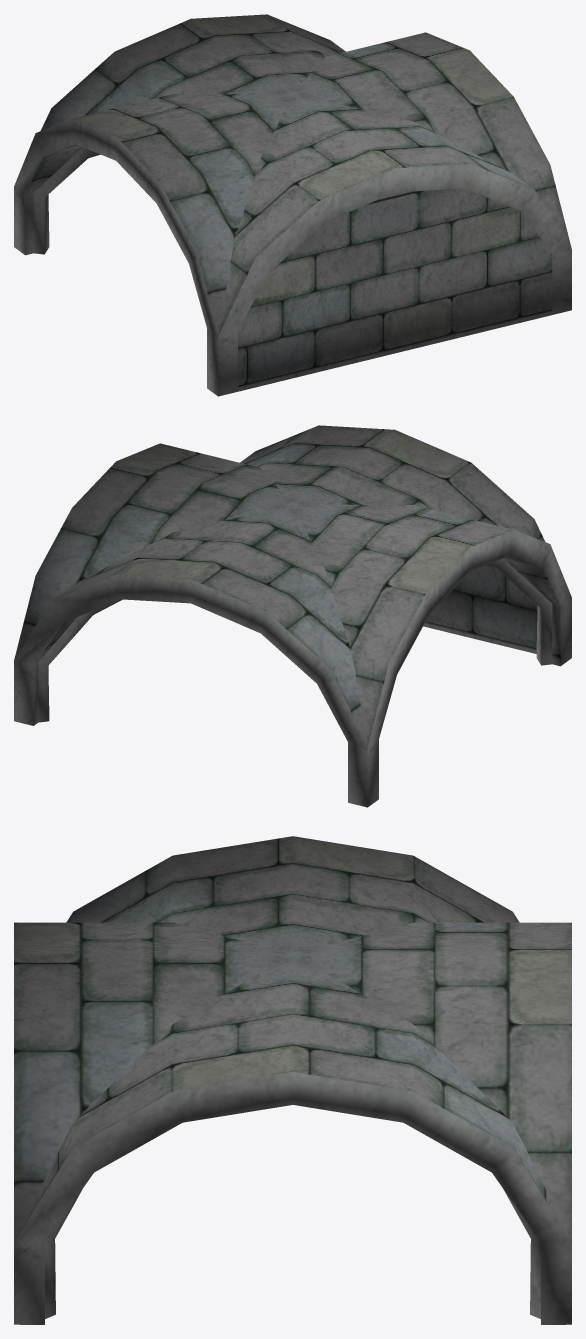
The model's file is vault_ceiling_large_02.glb.
3 views of the same model, one above another, from view 1: azimuth 30°, elevation 25°; view 2: azimuth 150°, elevation 25°; view 3: azimuth 270°, elevation 25° (orthographic). The views are drawn at different scales.
Visible parts, largest first — view 1: vault_ceiling_large_02; view 2: vault_ceiling_large_02; view 3: vault_ceiling_large_02.
Boxes of the visible parts, x1=… form: vault_ceiling_large_02: x1=14, y1=14, x2=571, y2=396; vault_ceiling_large_02: x1=14, y1=425, x2=571, y2=807; vault_ceiling_large_02: x1=14, y1=836, x2=571, y2=1324.
Size of the model in its own units: 4 by 2 by 4.
1 material, 1 textured.
